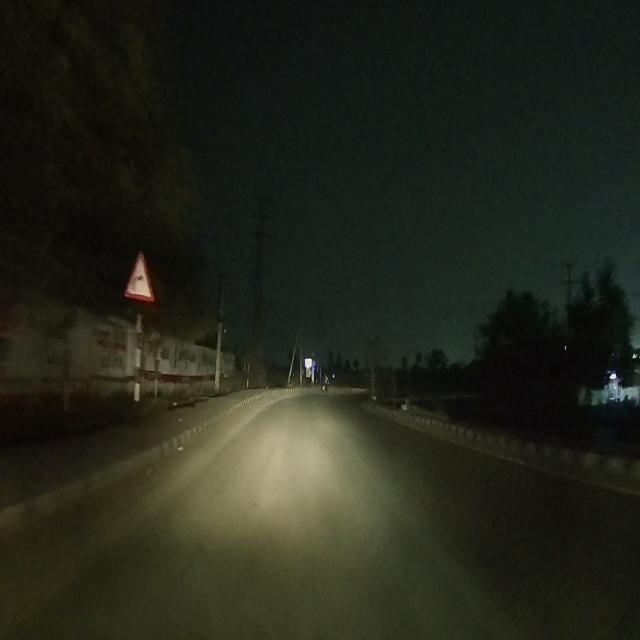right-hand-curve: (126, 244, 151, 295)
